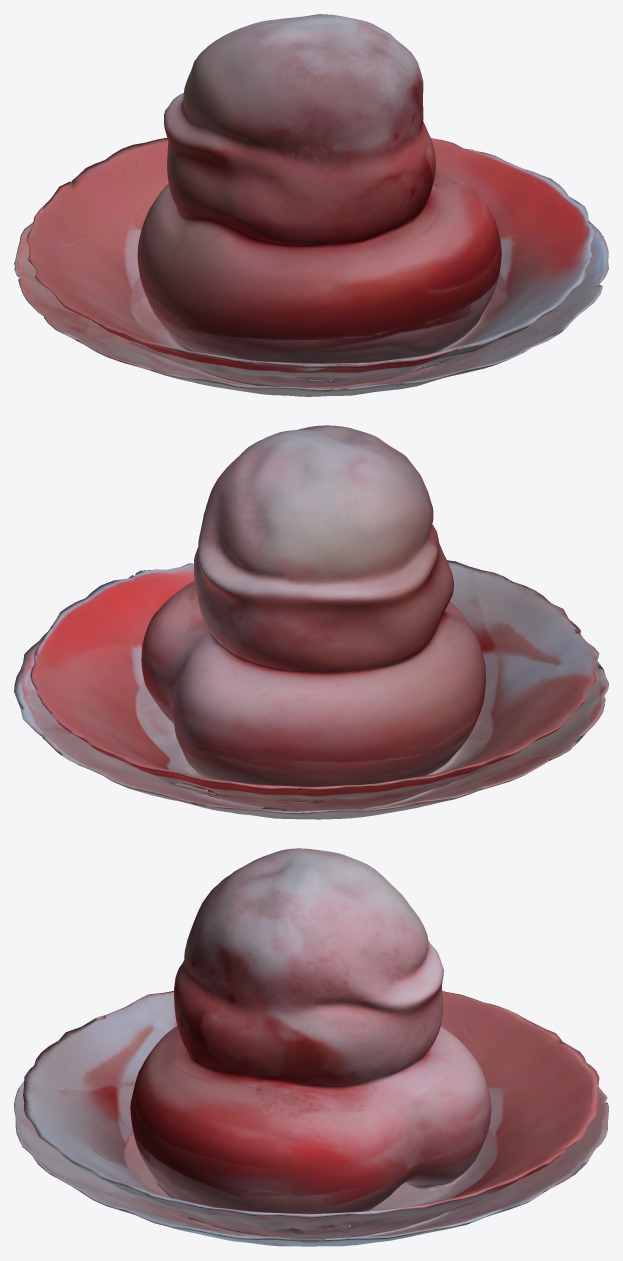
The model's file is ice.glb.
3 renders of one model, top to bottom at view 1: azimuth 30°, elevation 25°; view 2: azimuth 150°, elevation 25°; view 3: azimuth 270°, elevation 25°, orthographic.
Size of the model in its own units: 1.98 by 1.16 by 1.99.
1 material, 1 textured.
